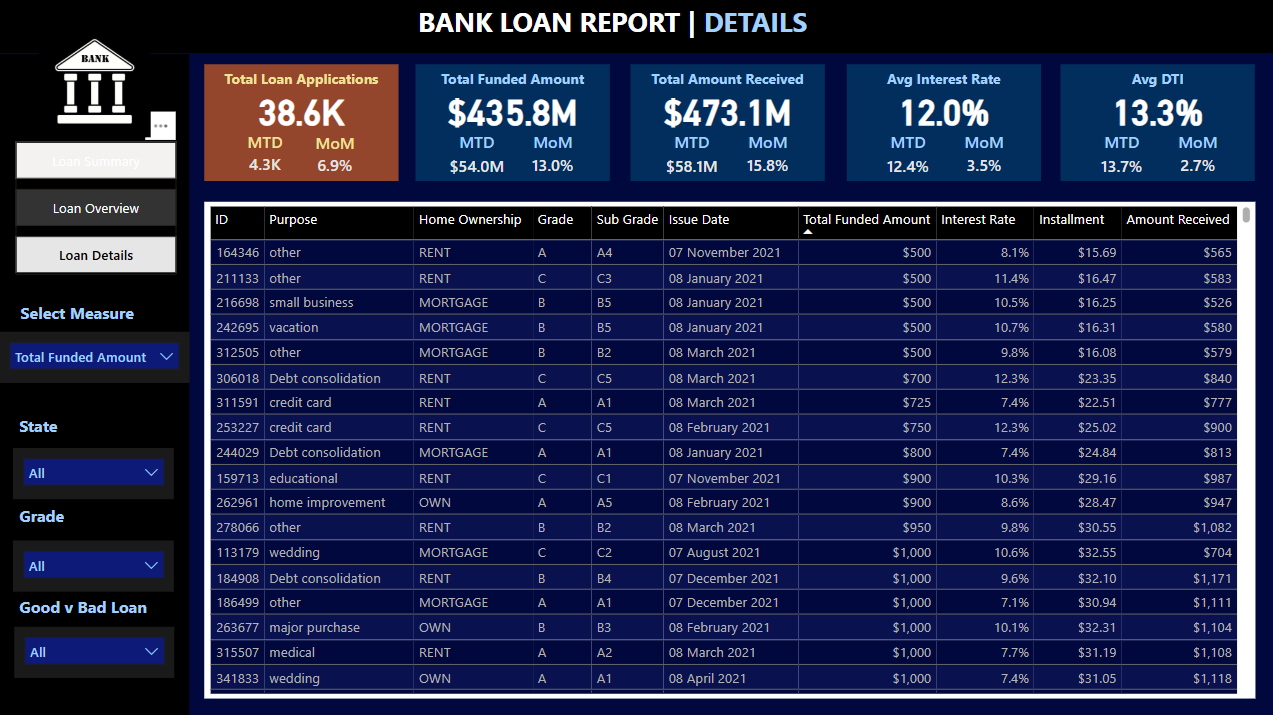

Layout of this report page (visuals, bound fields, positions):
{"tool":"powerbi","page":{"name":"Loan Details","canvas":[1280,720],"ordinal":2},"visuals":[{"type":"shape","box":[205.7,65.7,194.3,117.1],"z":0,"group":"g1"},{"type":"shape","box":[632,66,194.3,117.1],"z":0,"group":"g3"},{"type":"shape","box":[849,66,194.3,117.1],"z":0,"group":"g4"},{"type":"shape","box":[1063,66,194.3,117.1],"z":0,"group":"g5"},{"type":"shape","box":[417.8,66.1,194.3,117.1],"z":0,"group":"g2"},{"type":"shape","box":[205.7,204.3,1051.4,497.1],"z":0},{"type":"shape","box":[0,55.7,191.4,664.3],"z":1000},{"type":"card","fields":{"Values":["BankLoanData.Total Loan Applications"]},"box":[205.7,86.4,194.3,48.6],"z":1000,"group":"g1"},{"type":"card","fields":{"Values":["BankLoanData.Total Amount Received"]},"box":[632,86.7,194.3,48.6],"z":1000,"group":"g3"},{"type":"card","fields":{"Values":["BankLoanData.Avg Interest Rate"]},"box":[849,86.7,194.3,48.6],"z":1000,"group":"g4"},{"type":"card","fields":{"Values":["BankLoanData.Avg DTI"]},"box":[1063,86.7,194.3,48.6],"z":1000,"group":"g5"},{"type":"card","fields":{"Values":["BankLoanData.Total Funded Amount"]},"box":[417.8,86.8,194.3,48.6],"z":1000,"group":"g2"},{"type":"shape","box":[0,0,1280,55],"z":2000},{"type":"textbox","box":[205.7,65.7,194.3,31.4],"z":2000,"group":"g1"},{"type":"textbox","box":[632,66,194.3,31.4],"z":2000,"group":"g3"},{"type":"textbox","box":[849,66,194.3,31.4],"z":2000,"group":"g4"},{"type":"textbox","box":[1063,66,194.3,31.4],"z":2000,"group":"g5"},{"type":"textbox","box":[417.8,66.1,194.3,31.4],"z":2000,"group":"g2"},{"type":"textbox","box":[415,0,450,56],"z":3000},{"type":"card","title":"MTD","fields":{"Values":["BankLoanData.MTD Total Amount Received"]},"box":[656.3,132.1,75.2,53.8],"z":3000,"group":"g3"},{"type":"card","title":"MTD","fields":{"Values":["BankLoanData.MTD Avg Int Rate"]},"box":[873.3,132.1,75.2,53.8],"z":3000,"group":"g4"},{"type":"card","title":"MTD","fields":{"Values":["BankLoanData.MTD Avg DTI"]},"box":[1087.3,132.1,75.2,53.8],"z":3000,"group":"g5"},{"type":"card","title":"MTD","fields":{"Values":["BankLoanData.MTD Funded Amount"]},"box":[442.1,132.2,75.2,53.8],"z":3000,"group":"g2"},{"type":"card","title":"MTD","fields":{"Values":["BankLoanData.MTD Loan Applications"]},"box":[230.3,132.5,71.7,48.9],"z":3000,"group":"g1"},{"type":"group","id":"g1","title":"Group 1","box":[205.7,65.7,194.3,117.1],"z":4000},{"type":"card","title":"MoM","fields":{"Values":["BankLoanData.MOM Total Amount Received"]},"box":[737.3,131.7,64.8,51.4],"z":4000,"group":"g3"},{"type":"card","title":"MoM","fields":{"Values":["BankLoanData.MOM Avg Int Rate"]},"box":[954.3,131.7,64.8,51.4],"z":4000,"group":"g4"},{"type":"card","title":"MoM","fields":{"Values":["BankLoanData.MOM Avg DTI"]},"box":[1168.3,131.7,64.8,51.4],"z":4000,"group":"g5"},{"type":"card","title":"MoM","fields":{"Values":["BankLoanData.MOM Funded Amount"]},"box":[523.1,131.8,64.8,51.4],"z":4000,"group":"g2"},{"type":"card","title":"MoM","fields":{"Values":["BankLoanData.MOM Loan Applications"]},"box":[302.5,133.6,68.9,48.3],"z":4000,"group":"g1"},{"type":"group","id":"g2","title":"Group 1","box":[417.8,66.1,194.3,120],"z":5000},{"type":"group","id":"g3","title":"Group 1","box":[632,66,193,120],"z":6000},{"type":"group","id":"g4","title":"Group 1","box":[849,66,193,120],"z":7000},{"type":"group","id":"g5","title":"Group 1","box":[1063,66,194,120],"z":8000},{"type":"slicer","fields":{"Values":["BankLoanData.State"]},"box":[15,450,161,51],"z":9000},{"type":"textbox","box":[15.7,411.4,82.9,38.6],"z":10000},{"type":"slicer","fields":{"Values":["BankLoanData.Grade"]},"box":[15,542,161,51],"z":11000},{"type":"textbox","box":[15.7,501.4,71.4,40],"z":12000},{"type":"textbox","box":[15.7,592.9,161.4,45.7],"z":13000},{"type":"slicer","fields":{"Values":["BankLoanData.Good vs Bad Loan"]},"box":[15.7,628.6,160,51.4],"z":14000},{"type":"slicer","fields":{"Values":["Select Measure.Select Measure"]},"box":[1.4,334.3,190,51.4],"z":15000},{"type":"textbox","box":[17.1,298.6,145.7,35.7],"z":16000},{"type":"tableEx","fields":{"Values":["BankLoanData.ID","BankLoanData.Purpose","BankLoanData.Home_Ownership","BankLoanData.Grade","BankLoanData.Sub_Grade","BankLoanData.Issue_Date","BankLoanData.Total Funded Amount","BankLoanData.Interest_Rate","BankLoanData.Installment","BankLoanData.Total Amount Received"]},"box":[205.7,204.3,1051.4,497.1],"z":17000},{"type":"pageNavigator","box":[17.1,144.3,161.4,132.9],"z":18000},{"type":"image","box":[17.1,22.9,158.6,121.4],"z":19000}]}

Visuals, with their boxes on the page's 1280x720 design canvas (x1, y1, x2, y2). These are canvas units, not pixel positions in the 1273x715 screenshot, which may show the page scaled, cropped or inside an application window:
shape: [x1=206, y1=66, x2=400, y2=183]
shape: [x1=632, y1=66, x2=826, y2=183]
shape: [x1=849, y1=66, x2=1043, y2=183]
shape: [x1=1063, y1=66, x2=1257, y2=183]
shape: [x1=418, y1=66, x2=612, y2=183]
shape: [x1=206, y1=204, x2=1257, y2=701]
shape: [x1=0, y1=56, x2=191, y2=720]
card - BankLoanData.Total Loan Applications: [x1=206, y1=86, x2=400, y2=135]
card - BankLoanData.Total Amount Received: [x1=632, y1=87, x2=826, y2=135]
card - BankLoanData.Avg Interest Rate: [x1=849, y1=87, x2=1043, y2=135]
card - BankLoanData.Avg DTI: [x1=1063, y1=87, x2=1257, y2=135]
card - BankLoanData.Total Funded Amount: [x1=418, y1=87, x2=612, y2=135]
shape: [x1=0, y1=0, x2=1280, y2=55]
textbox: [x1=206, y1=66, x2=400, y2=97]
textbox: [x1=632, y1=66, x2=826, y2=97]
textbox: [x1=849, y1=66, x2=1043, y2=97]
textbox: [x1=1063, y1=66, x2=1257, y2=97]
textbox: [x1=418, y1=66, x2=612, y2=98]
textbox: [x1=415, y1=0, x2=865, y2=56]
"MTD" card: [x1=656, y1=132, x2=732, y2=186]
"MTD" card: [x1=873, y1=132, x2=948, y2=186]
"MTD" card: [x1=1087, y1=132, x2=1162, y2=186]
"MTD" card: [x1=442, y1=132, x2=517, y2=186]
"MTD" card: [x1=230, y1=132, x2=302, y2=181]
"Group 1" group: [x1=206, y1=66, x2=400, y2=183]
"MoM" card: [x1=737, y1=132, x2=802, y2=183]
"MoM" card: [x1=954, y1=132, x2=1019, y2=183]
"MoM" card: [x1=1168, y1=132, x2=1233, y2=183]
"MoM" card: [x1=523, y1=132, x2=588, y2=183]
"MoM" card: [x1=302, y1=134, x2=371, y2=182]
"Group 1" group: [x1=418, y1=66, x2=612, y2=186]
"Group 1" group: [x1=632, y1=66, x2=825, y2=186]
"Group 1" group: [x1=849, y1=66, x2=1042, y2=186]
"Group 1" group: [x1=1063, y1=66, x2=1257, y2=186]
slicer - BankLoanData.State: [x1=15, y1=450, x2=176, y2=501]
textbox: [x1=16, y1=411, x2=99, y2=450]
slicer - BankLoanData.Grade: [x1=15, y1=542, x2=176, y2=593]
textbox: [x1=16, y1=501, x2=87, y2=541]
textbox: [x1=16, y1=593, x2=177, y2=639]
slicer - BankLoanData.Good vs Bad Loan: [x1=16, y1=629, x2=176, y2=680]
slicer - Select Measure.Select Measure: [x1=1, y1=334, x2=191, y2=386]
textbox: [x1=17, y1=299, x2=163, y2=334]
tableEx - BankLoanData.ID x BankLoanData.Purpose: [x1=206, y1=204, x2=1257, y2=701]
pageNavigator: [x1=17, y1=144, x2=178, y2=277]
image: [x1=17, y1=23, x2=176, y2=144]
